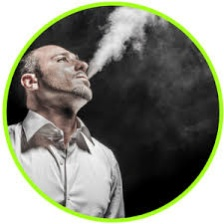smoke: (93, 11, 136, 66)
